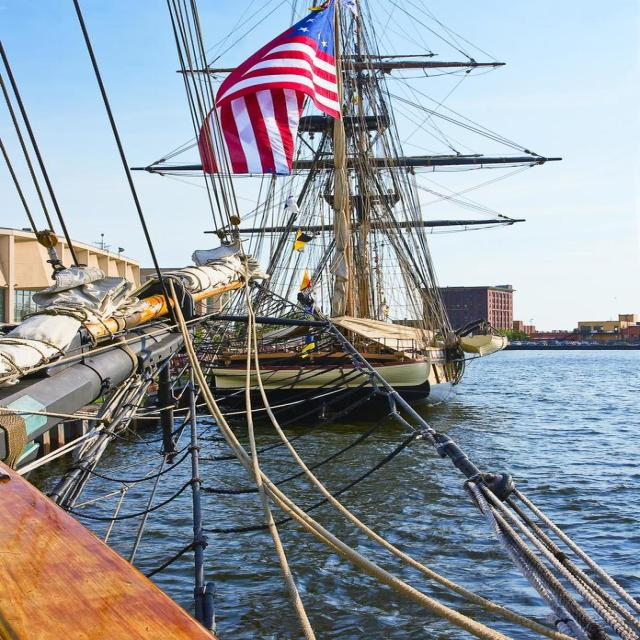Boat: (160, 32, 574, 404)
